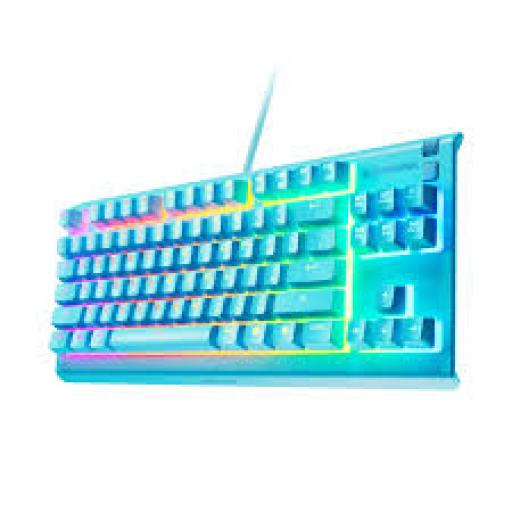keyboard: (50, 134, 460, 380)
